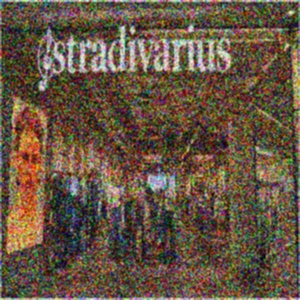stradivarius: (223, 12, 253, 35)
